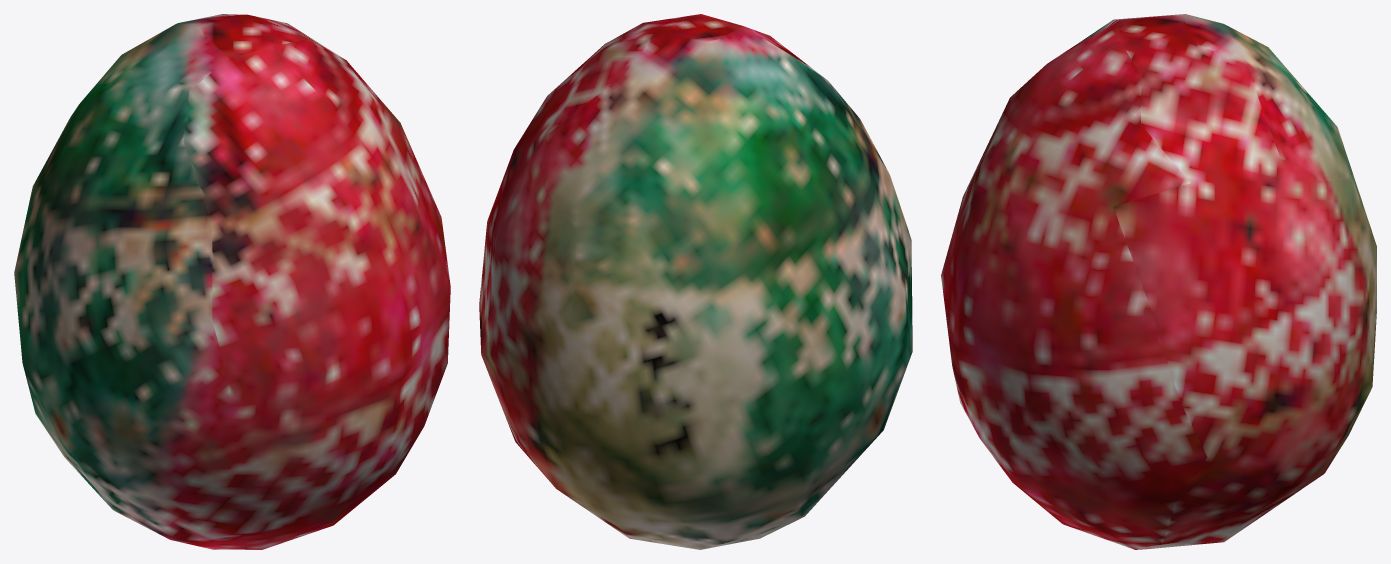
The picture shows the model from 3 angles, left to right: view 1: azimuth 30°, elevation 25°; view 2: azimuth 150°, elevation 25°; view 3: azimuth 270°, elevation 25°; orthographic projection.
Parts seen in each view (by area): view 1: pMesh1; view 2: pMesh1; view 3: pMesh1.
Boxes of the visible parts, x1,y1,x2,y2 form: pMesh1: [14, 14, 450, 549]; pMesh1: [479, 14, 912, 549]; pMesh1: [941, 14, 1376, 549].
Bounding box in the file's own units: 41.29 × 52.58 × 41.18.
1 material, 1 textured.
